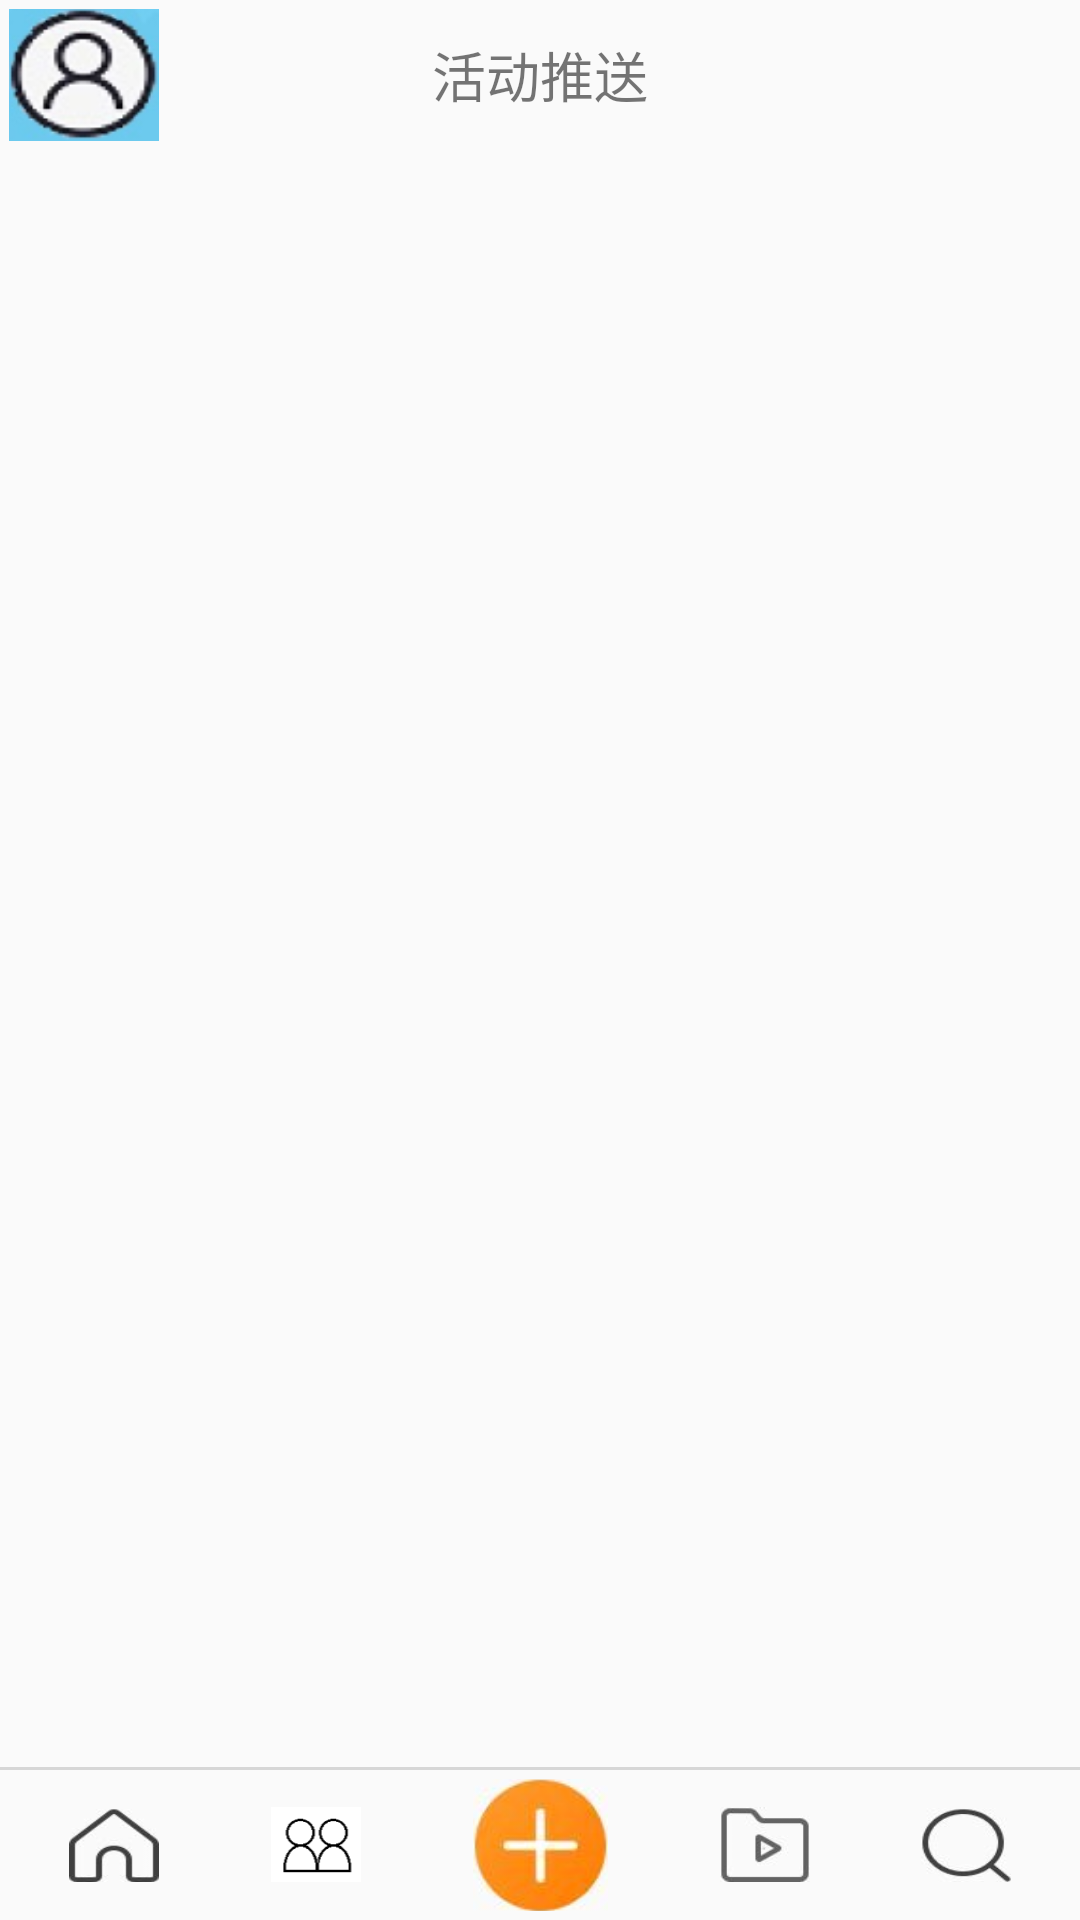

Locate icon controls on the screen. Image size 1080x1920, boxes as (x1, y1, x2, y2).
createactivity true: (473, 1779, 608, 1911)
friend: (283, 1818, 352, 1873)
myactivity: (721, 1808, 809, 1882)
personalinfo: (9, 9, 159, 141)
search: (922, 1809, 1011, 1882)
